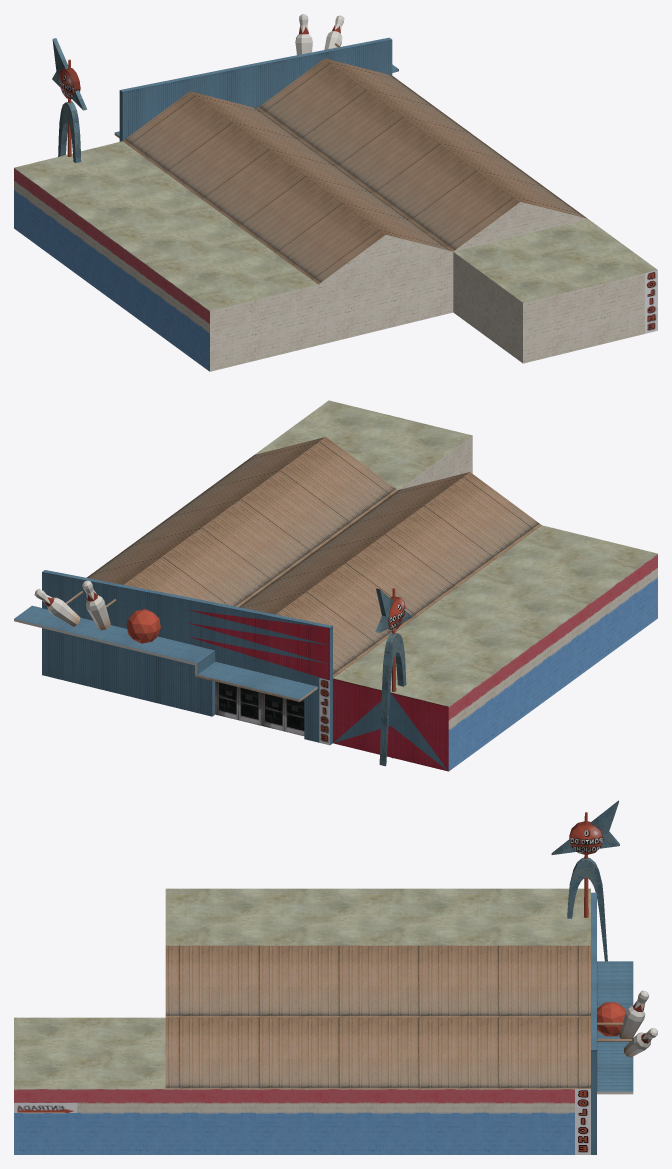
File: des_stwnbowl.obj
The picture shows the model from 3 angles, top to bottom: view 1: azimuth 30°, elevation 25°; view 2: azimuth 150°, elevation 25°; view 3: azimuth 270°, elevation 25°; orthographic projection. The views are drawn at different scales.
Parts seen in each view (by area): view 1: des_stwnbowl; view 2: des_stwnbowl; view 3: des_stwnbowl.
Boxes of the visible parts, x1,y1,x2,y2 form: des_stwnbowl: (14, 14, 657, 371); des_stwnbowl: (14, 400, 657, 771); des_stwnbowl: (14, 800, 657, 1154).
Bounding box in the file's own units: 25 × 10.41 × 33.15.
10 materials, 10 textured.
